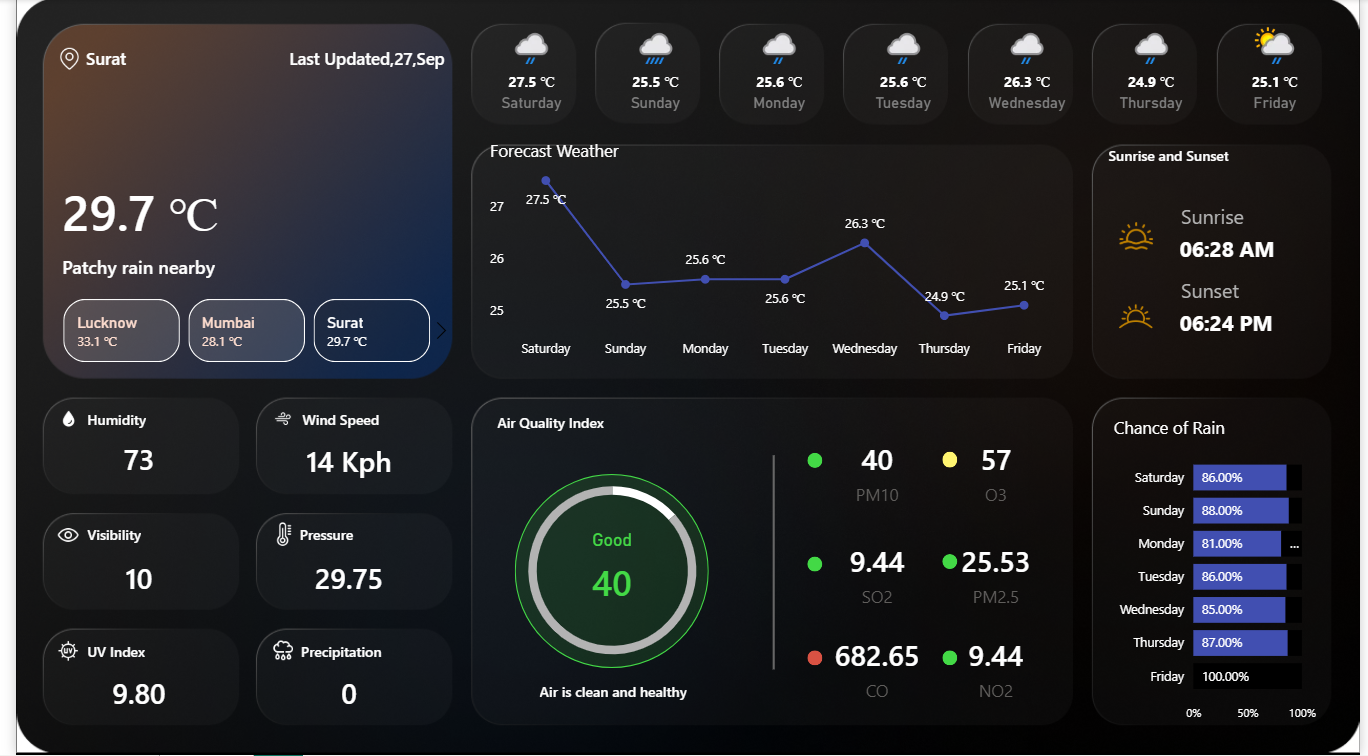

What the dashboard file says about the page in this screenshot:
{"tool":"powerbi","page":{"name":"Page 1","canvas":[1280,720],"ordinal":0},"visuals":[{"type":"shape","box":[475.1,452.3,184.8,184.8],"z":0},{"type":"advancedSlicerVisual","fields":{"Values":["Location.location.name"]},"box":[20.2,281,400,70.2],"z":1000},{"type":"shape","box":[44.3,170.5,170.2,61.9],"z":2000},{"type":"shape","box":[44.3,232.4,371.4,45.2],"z":3000},{"type":"shape","box":[66.7,33.3,113.1,45.2],"z":4000},{"type":"shape","box":[210.7,33.3,197.6,45.2],"z":5000},{"type":"image","box":[33.3,41.7,35.7,31],"z":6000},{"type":"cardVisual","fields":{"Data":["Min(Current.current.condition.icon)"]},"box":[44,72.6,109.5,100],"z":7000},{"type":"image","box":[33.3,494.1,33.3,33.3],"z":8000},{"type":"shape","box":[67.9,489.3,84.5,39.3],"z":9000},{"type":"image","box":[33.3,386.9,33.3,26.2],"z":10000},{"type":"image","box":[239.3,492.9,32.1,33.3],"z":11000},{"type":"image","box":[238.1,386.9,32.1,26.2],"z":12000},{"type":"image","box":[33.3,606,33.3,29.8],"z":13000},{"type":"image","box":[238.1,602.4,33.3,35.7],"z":14000},{"type":"shape","box":[271.4,601.2,84.5,39.3],"z":15000},{"type":"shape","box":[270.2,489.3,84.5,39.3],"z":16000},{"type":"shape","box":[272.6,379.8,84.5,39.3],"z":17000},{"type":"shape","box":[67.9,379.8,84.5,39.3],"z":18000},{"type":"shape","box":[67.9,601.2,84.5,39.3],"z":19000},{"type":"card","fields":{"Values":["Sum(Current.current.humidity)"]},"box":[44,413.1,146.4,53.6],"z":20000},{"type":"card","fields":{"Values":["_Measure.Wind_Speed"]},"box":[244,414.3,146.4,53.6],"z":21000},{"type":"card","fields":{"Values":["Sum(Current.current.pressure_in)"]},"box":[244,526.2,146.4,53.6],"z":22000},{"type":"card","fields":{"Values":["Sum(Current.current.precip_in)"]},"box":[244,635.7,146.4,53.6],"z":23000},{"type":"card","fields":{"Values":["Sum(Current.current.uv)"]},"box":[44,635.7,146.4,53.6],"z":24000},{"type":"card","fields":{"Values":["Sum(Current.current.vis_km)"]},"box":[44,526.2,146.4,53.6],"z":25000},{"type":"advancedSlicerVisual","fields":{"Values":["Forcast_Day.Day_Name"]},"box":[423.8,17.9,833.3,108.3],"z":26000},{"type":"lineChart","title":"Forecast Weather","fields":{"Y":["Sum(Forcast_Day.forecast.forecastday.day.avgtemp_c)"],"Category":["Forcast_Day.Day_Name"]},"box":[446.4,142.9,548.8,217.9],"z":27000},{"type":"shape","box":[1040.5,144,191.7,31],"z":28000},{"type":"shape","box":[1109.1,260.2,134.5,32.1],"z":29000},{"type":"shape","box":[1109.1,191.2,147.6,29.8],"z":30000},{"type":"shape","box":[1107.9,291.4,134.5,32.1],"z":31000},{"type":"shape","box":[1107.9,222.3,147.6,29.8],"z":32000},{"type":"image","box":[1040.5,276.2,52.4,52.4],"z":33000},{"type":"image","box":[1040.5,204.8,52.4,41.7],"z":34000},{"type":"hundredPercentStackedBarChart","title":"Chance of Rain","fields":{"Category":["Forcast_Day.Day_Name"],"Y":["Sum(Forcast_Day.forecast.forecastday.day.daily_chance_of_rain)","_Measure.Left_value_Rain"]},"box":[1039.3,391.7,202.4,301.2],"z":35000},{"type":"shape","box":[458.3,388.1,191.7,31],"z":36000},{"type":"card","fields":{"Values":["Sum(Current.current.air_quality.pm10)"]},"box":[768.8,410.4,102.6,78.8],"z":37000},{"type":"card","fields":{"Values":["Sum(Current.current.air_quality.o3)"]},"box":[881.8,410.4,102.6,78.8],"z":38000},{"type":"card","fields":{"Values":["Sum(Current.current.air_quality.so2)"]},"box":[768.8,508.6,102.6,78.8],"z":39000},{"type":"card","fields":{"Values":["Sum(Current.current.air_quality.co)"]},"box":[768.8,597.8,102.6,78.8],"z":40000},{"type":"card","fields":{"Values":["Sum(Current.current.air_quality.no2)"]},"box":[881.8,597.8,102.6,78.8],"z":41000},{"type":"card","fields":{"Values":["Sum(Current.current.air_quality.pm2_5)"]},"box":[881.8,508.6,102.6,78.8],"z":42000},{"type":"shape","box":[753.1,432.4,14.6,14.6],"z":43000},{"type":"shape","box":[753.1,620.7,14.6,14.6],"z":44000},{"type":"shape","box":[881.9,620.3,14.4,14.4],"z":45000},{"type":"shape","box":[881.9,529.1,14.4,14.4],"z":46000},{"type":"shape","box":[881.9,430.7,14.4,15.6],"z":47000},{"type":"shape","box":[753.5,531.5,14.4,14.4],"z":48000},{"type":"shape","box":[695.9,434.3,50.4,204],"z":49000},{"type":"donutChart","fields":{"Y":["Sum(Current.current.air_quality.pm10)","_Measure.Left_value_PM10"]},"box":[457.1,439.1,222,210],"z":50000},{"type":"card","fields":{"Values":["Sum(Current.current.air_quality.pm10)"]},"box":[514.7,505.1,106.8,82.8],"z":51000},{"type":"shape","box":[449.9,644.3,237.6,31.2],"z":52000}]}

Visuals, with their boxes in screenshot pixels (x1, y1, x2, y2), scaled from the page's 1280x720 canvas onto the 1368x756 screenshot:
shape: <box>508,475,705,669</box>
advancedSlicerVisual - Location.location.name: <box>22,295,449,369</box>
shape: <box>47,179,229,244</box>
shape: <box>47,244,444,291</box>
shape: <box>71,35,192,82</box>
shape: <box>225,35,436,82</box>
image: <box>36,44,74,76</box>
cardVisual - Min(Current.current.condition.icon): <box>47,76,164,181</box>
image: <box>36,519,71,554</box>
shape: <box>73,514,163,555</box>
image: <box>36,406,71,434</box>
image: <box>256,518,290,553</box>
image: <box>254,406,289,434</box>
image: <box>36,636,71,668</box>
image: <box>254,633,290,670</box>
shape: <box>290,631,380,673</box>
shape: <box>289,514,379,555</box>
shape: <box>291,399,382,440</box>
shape: <box>73,399,163,440</box>
shape: <box>73,631,163,673</box>
card - Sum(Current.current.humidity): <box>47,434,203,490</box>
card - _Measure.Wind_Speed: <box>261,435,417,491</box>
card - Sum(Current.current.pressure_in): <box>261,553,417,609</box>
card - Sum(Current.current.precip_in): <box>261,667,417,724</box>
card - Sum(Current.current.uv): <box>47,667,203,724</box>
card - Sum(Current.current.vis_km): <box>47,553,203,609</box>
advancedSlicerVisual - Forcast_Day.Day_Name: <box>453,19,1344,133</box>
"Forecast Weather" lineChart: <box>477,150,1064,379</box>
shape: <box>1112,151,1317,184</box>
shape: <box>1185,273,1329,307</box>
shape: <box>1185,201,1343,232</box>
shape: <box>1184,306,1328,340</box>
shape: <box>1184,233,1342,265</box>
image: <box>1112,290,1168,345</box>
image: <box>1112,215,1168,259</box>
"Chance of Rain" hundredPercentStackedBarChart: <box>1111,411,1327,728</box>
shape: <box>490,408,695,440</box>
card - Sum(Current.current.air_quality.pm10): <box>822,431,931,514</box>
card - Sum(Current.current.air_quality.o3): <box>942,431,1052,514</box>
card - Sum(Current.current.air_quality.so2): <box>822,534,931,617</box>
card - Sum(Current.current.air_quality.co): <box>822,628,931,710</box>
card - Sum(Current.current.air_quality.no2): <box>942,628,1052,710</box>
card - Sum(Current.current.air_quality.pm2_5): <box>942,534,1052,617</box>
shape: <box>805,454,820,469</box>
shape: <box>805,652,820,667</box>
shape: <box>943,651,958,666</box>
shape: <box>943,556,958,571</box>
shape: <box>943,452,958,469</box>
shape: <box>805,558,821,573</box>
shape: <box>744,456,798,670</box>
donutChart - Sum(Current.current.air_quality.pm10) x _Measure.Left_value_PM10: <box>489,461,726,682</box>
card - Sum(Current.current.air_quality.pm10): <box>550,530,664,617</box>
shape: <box>481,677,735,709</box>
